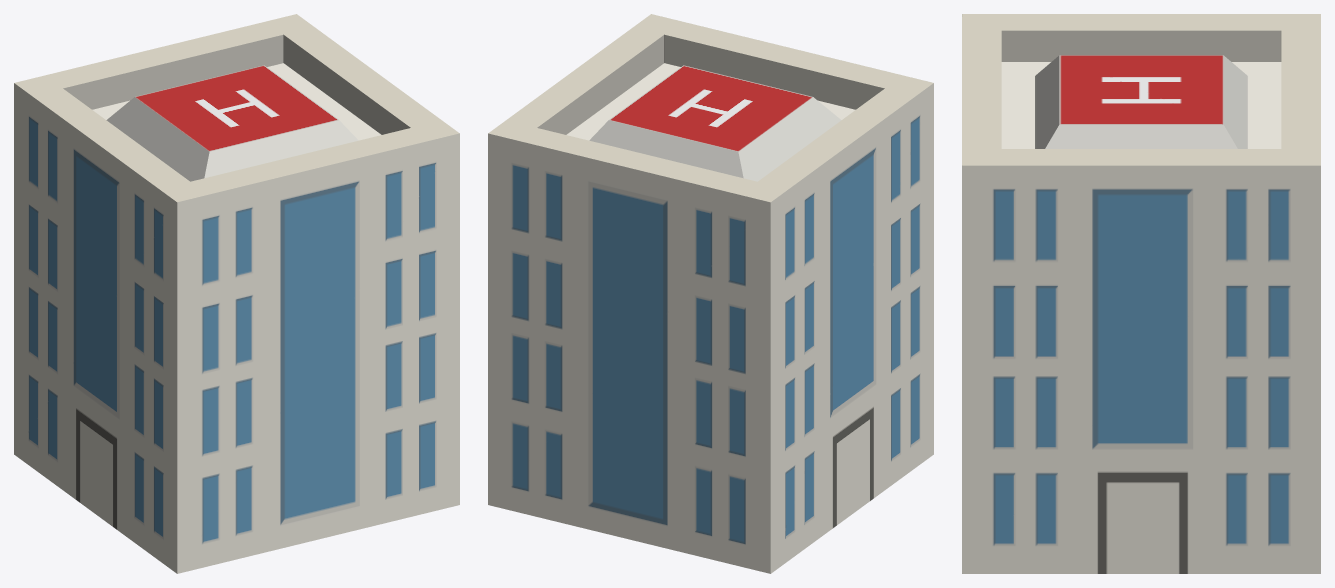
Rendered from building set 2_11.fbx.
The picture shows the model from 3 angles, left to right: view 1: azimuth 30°, elevation 25°; view 2: azimuth 150°, elevation 25°; view 3: azimuth 270°, elevation 25°; orthographic projection. The views are drawn at different scales.
Visible parts, largest first — view 1: pCube12; view 2: pCube12; view 3: pCube12.
Part boxes in pixels (<box>): pCube12: <box>14,14,459,573</box>; pCube12: <box>488,14,933,573</box>; pCube12: <box>962,14,1320,573</box>.
Size of the model in its own units: 4.2 by 5.28 by 4.2.
